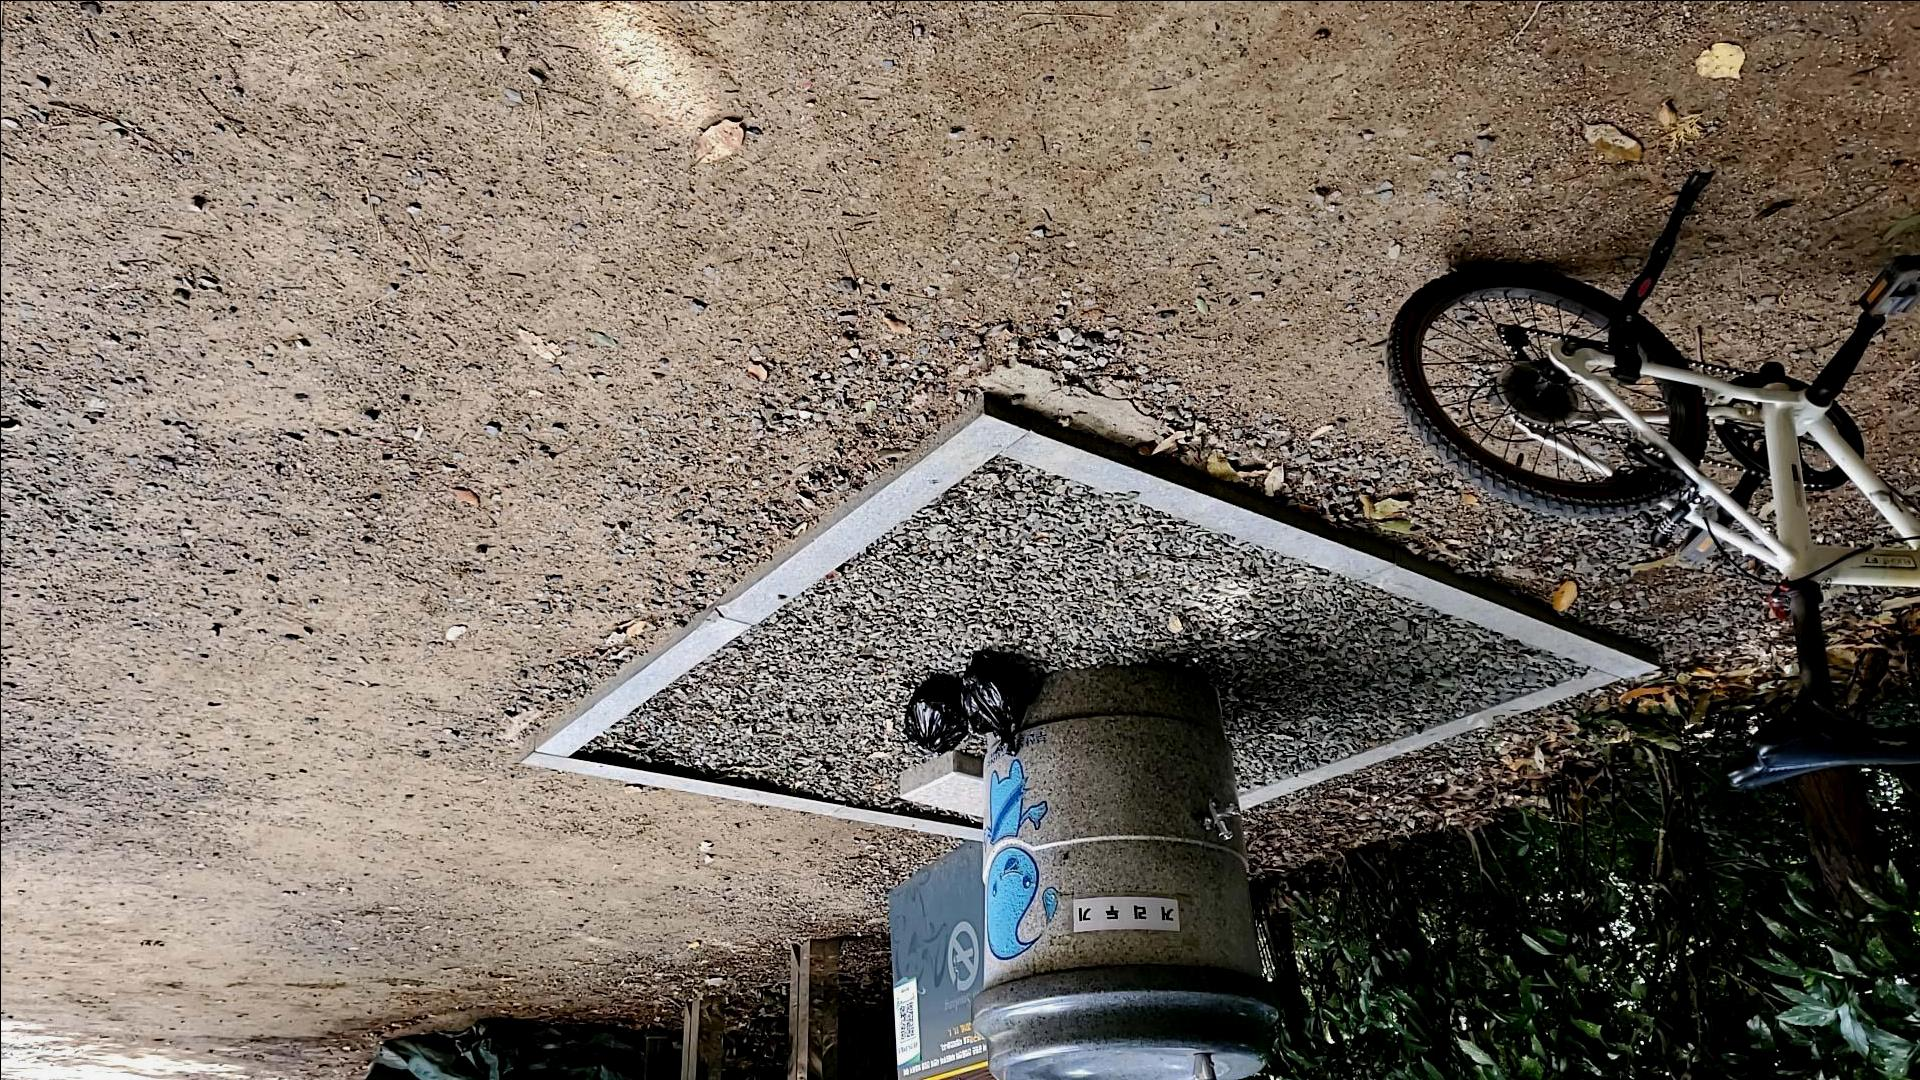black_bag: (957, 646, 1039, 761), (899, 673, 968, 756)
